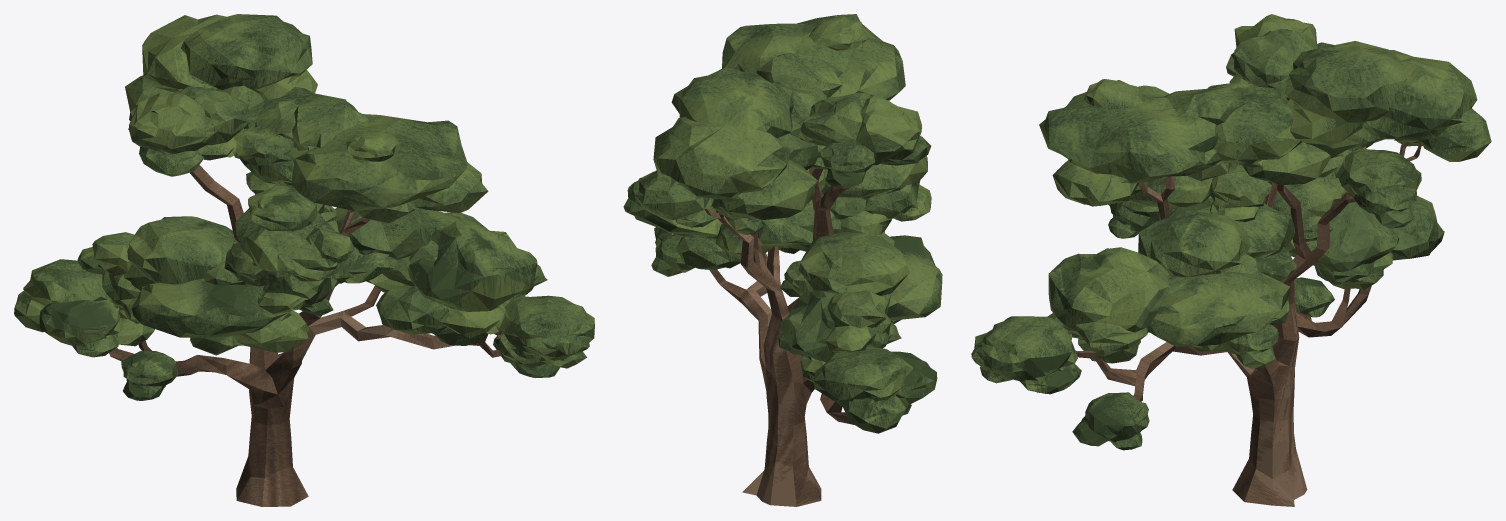
Rendered from Tree01.fbx.
3 renders of one model, left to right at view 1: azimuth 30°, elevation 25°; view 2: azimuth 150°, elevation 25°; view 3: azimuth 270°, elevation 25°, orthographic. The views are drawn at different scales.
Parts seen in each view (by area): view 1: Tree01; view 2: Tree01; view 3: Tree01.
Part boxes in pixels (x1,y1,x2,y2): Tree01: [14, 14, 594, 506]; Tree01: [623, 14, 942, 506]; Tree01: [971, 14, 1491, 506].
Bounding box in the file's own units: 371 × 395 × 419.
